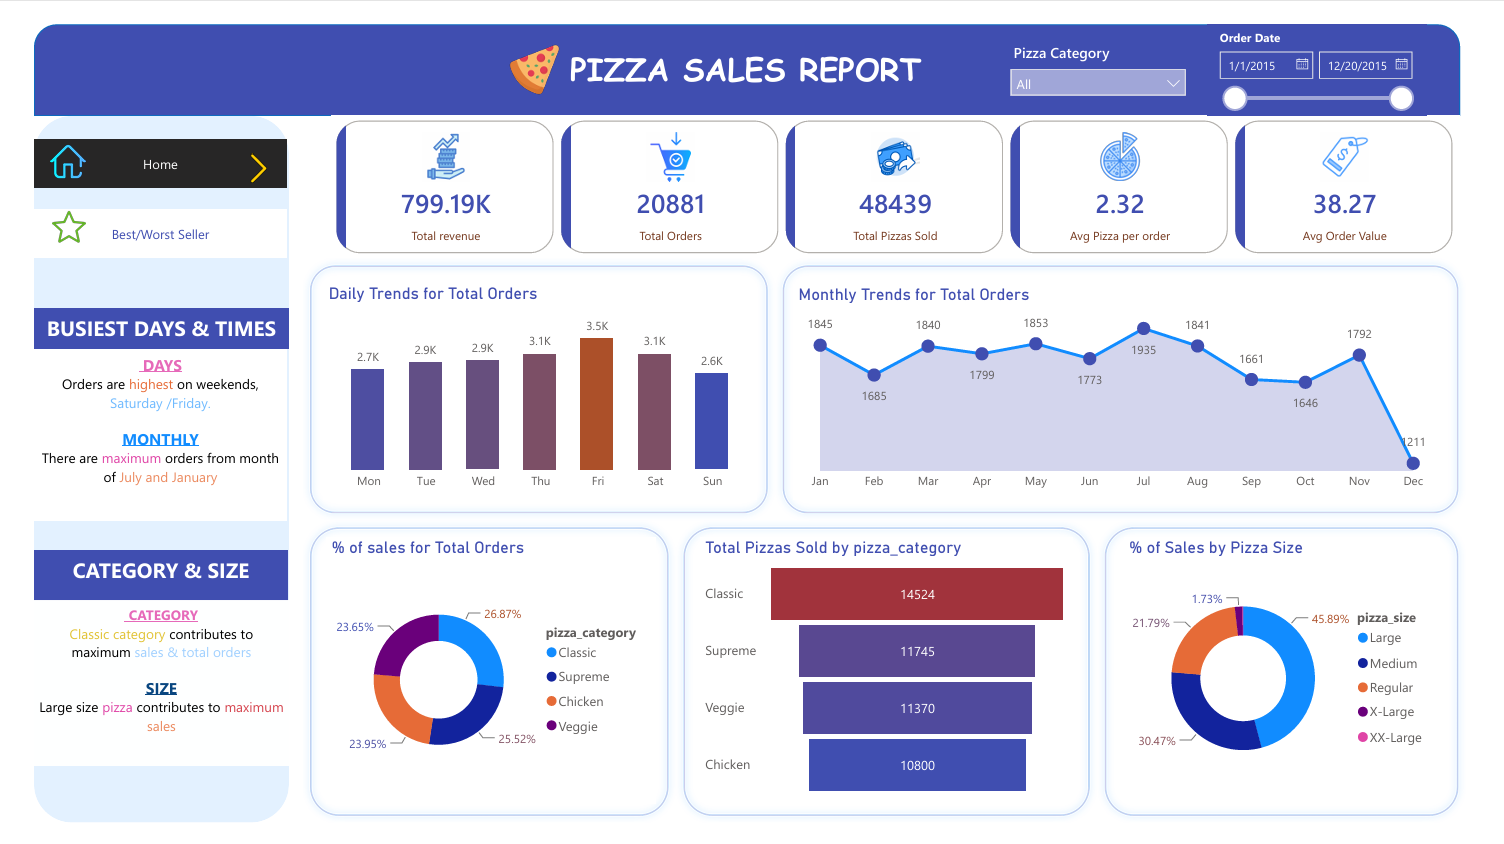

Layout of this report page (visuals, bound fields, positions):
{"tool":"powerbi","page":{"name":"Home","canvas":[1500,820],"ordinal":0},"visuals":[{"type":"shape","box":[12,0,1466,94],"z":0},{"type":"textbox","box":[557.6,18.3,386.2,61.6],"z":1000},{"type":"textbox","box":[652.2,41.7,215.6,52.5],"z":2000},{"type":"image","box":[482.7,15,86.6,63.2],"z":3000},{"type":"shape","box":[288,240,486,270],"z":4000},{"type":"shape","box":[774,240,710,270],"z":5000},{"type":"shape","box":[288,509,384,311.6],"z":6000},{"type":"shape","box":[672.1,509,433,311.6],"z":7000},{"type":"shape","box":[1105,509,378.6,311.6],"z":8000},{"type":"cardVisual","fields":{"Data":["pizza_sales.Total revenue","pizza_sales.Total Orders","pizza_sales.Total Pizzas Sold","pizza_sales.Avg Pizza per order","pizza_sales.Avg Order Value"]},"box":[318,94,1160,146],"z":9000},{"type":"columnChart","title":"Daily Trends for Total Orders","fields":{"Category":["pizza_sales.order_day"],"Y":["pizza_sales.Total Orders"]},"box":[310,266,446,222],"z":10000},{"type":"areaChart","title":"Monthly Trends for Total Orders","fields":{"Category":["pizza_sales.Month_Name"],"Y":["pizza_sales.Total Orders"]},"box":[793.3,266.7,663.3,221.7],"z":11000},{"type":"donutChart","title":"% of  sales for Total Orders","fields":{"Y":["pizza_sales.Total revenue"],"Category":["pizza_sales.pizza_category"]},"box":[313.4,527.2,338.8,273.5],"z":12000},{"type":"donutChart","title":"% of Sales by Pizza Size","fields":{"Y":["pizza_sales.Total revenue"],"Series":["pizza_sales.pizza_size"]},"box":[1133.3,526.7,323.3,271.7],"z":13000},{"type":"funnel","fields":{"Category":["pizza_sales.pizza_category"],"Y":["pizza_sales.Total Pizzas Sold"]},"box":[697.4,527.2,382.2,271.7],"z":14000},{"type":"shape","box":[12,94,262,726],"z":15000},{"type":"textbox","box":[12,292,262,42],"z":16000},{"type":"textbox","box":[12.4,541.2,260.8,51.5],"z":17000},{"type":"textbox","box":[12,334,260,176],"z":18000},{"type":"textbox","box":[12,592,262,170],"z":19000},{"type":"slicer","fields":{"Values":["pizza_sales.pizza_category"]},"box":[1006,14,200,68],"z":20000},{"type":"slicer","fields":{"Values":["pizza_sales.order_date"]},"box":[1218,0,226,94],"z":21000},{"type":"pageNavigator","box":[12,118,260,50],"z":22000},{"type":"pageNavigator","box":[12,190,260,50],"z":23000},{"type":"image","box":[214,128,58,40],"z":24000},{"type":"image","box":[12,118,70,46],"z":25000},{"type":"image","box":[26,162,44,92],"z":26000}]}

Visuals, with their boxes in screenshot pixels (x1, y1, x2, y2), scaled from the page's 1500x820 canvas onto the 1504x844 screenshot:
shape: rect(12, 0, 1482, 97)
textbox: rect(559, 19, 946, 82)
textbox: rect(654, 43, 870, 97)
image: rect(484, 15, 571, 80)
shape: rect(289, 247, 776, 525)
shape: rect(776, 247, 1488, 525)
shape: rect(289, 524, 674, 843)
shape: rect(674, 524, 1108, 843)
shape: rect(1108, 524, 1488, 843)
cardVisual - pizza_sales.Total revenue x pizza_sales.Total Orders: rect(319, 97, 1482, 247)
"Daily Trends for Total Orders" columnChart: rect(311, 274, 758, 502)
"Monthly Trends for Total Orders" areaChart: rect(795, 275, 1460, 503)
"% of  sales for Total Orders" donutChart: rect(314, 543, 654, 824)
"% of Sales by Pizza Size" donutChart: rect(1136, 542, 1460, 822)
funnel - pizza_sales.pizza_category x pizza_sales.Total Pizzas Sold: rect(699, 543, 1082, 822)
shape: rect(12, 97, 275, 843)
textbox: rect(12, 301, 275, 344)
textbox: rect(12, 557, 274, 610)
textbox: rect(12, 344, 273, 525)
textbox: rect(12, 609, 275, 784)
slicer - pizza_sales.pizza_category: rect(1009, 14, 1209, 84)
slicer - pizza_sales.order_date: rect(1221, 0, 1448, 97)
pageNavigator: rect(12, 121, 273, 173)
pageNavigator: rect(12, 196, 273, 247)
image: rect(215, 132, 273, 173)
image: rect(12, 121, 82, 169)
image: rect(26, 167, 70, 261)
